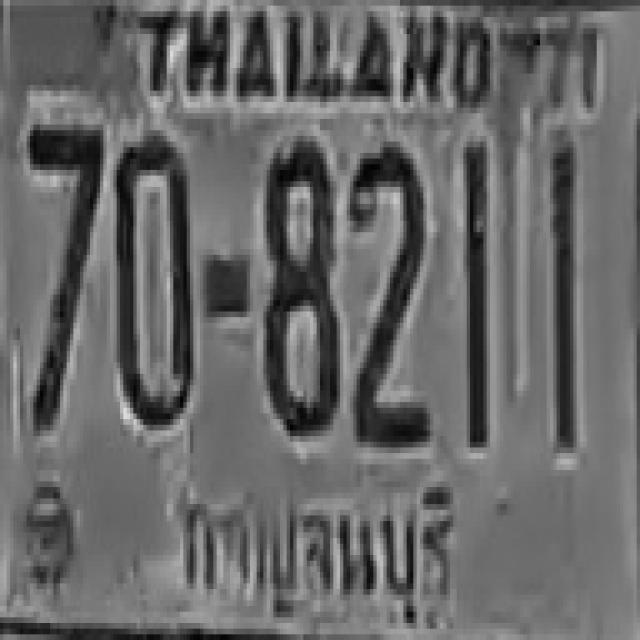0: (115, 124, 192, 424)
1: (462, 136, 485, 442), (550, 136, 573, 442)
2: (348, 136, 425, 442)
7: (27, 116, 100, 428)
8: (263, 136, 337, 430)
KRI: (172, 470, 466, 636)
